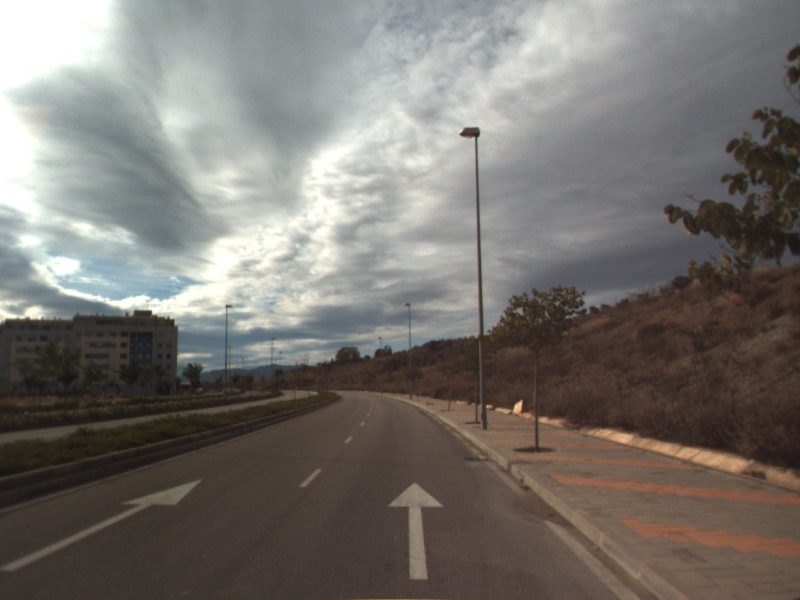STRAIGHT: (1, 476, 207, 574), (385, 480, 446, 582)
